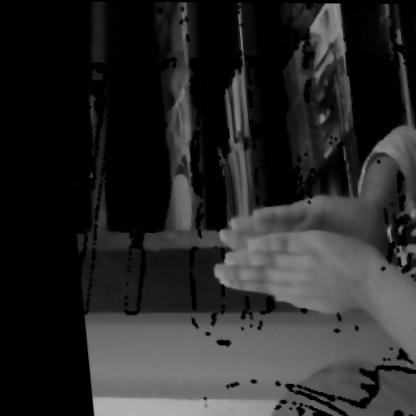namaste: (188, 162, 402, 343)
